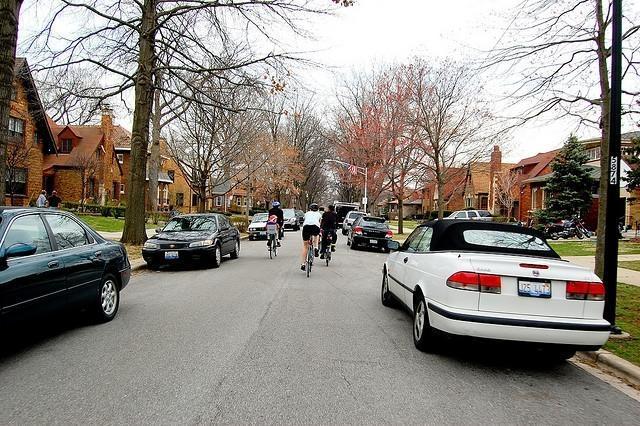bicycle: (324, 227, 339, 267), (270, 234, 280, 260), (306, 239, 312, 278), (308, 238, 314, 276), (318, 234, 322, 248)
car: (380, 221, 613, 371), (4, 206, 134, 338), (140, 214, 240, 268), (346, 216, 394, 254), (442, 209, 512, 224), (246, 212, 270, 240), (342, 211, 367, 235), (280, 208, 300, 232), (336, 206, 356, 228), (294, 210, 304, 226)
motorcycle: (544, 222, 584, 239), (570, 214, 590, 238)
